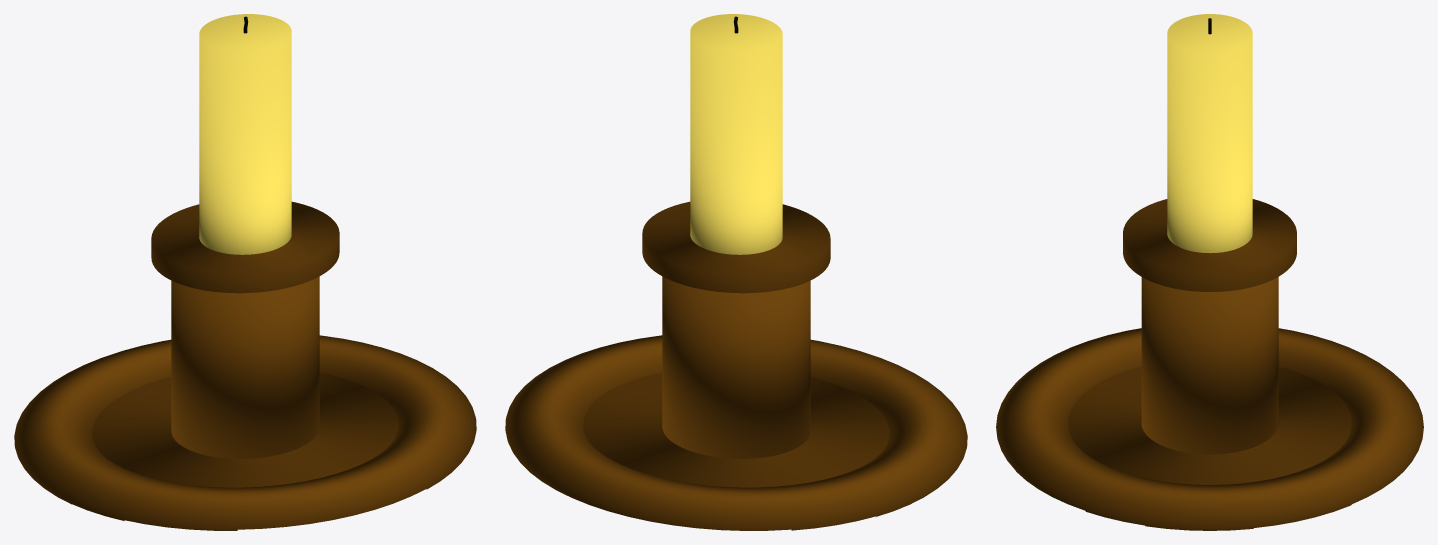
The model's file is Candle FBX.fbx.
The picture shows the model from 3 angles, left to right: view 1: azimuth 30°, elevation 25°; view 2: azimuth 150°, elevation 25°; view 3: azimuth 270°, elevation 25°; orthographic projection.
Visible parts, largest first — view 1: Torus, Cylinder_002, Cylinder, Cylinder_001, Cylinder_003; view 2: Torus, Cylinder_002, Cylinder, Cylinder_001, Cylinder_003; view 3: Torus, Cylinder_002, Cylinder, Cylinder_001, Cylinder_003.
Part boxes in pixels (x1,y1,x2,y2): Torus: [14, 335, 476, 530]; Cylinder_002: [171, 276, 319, 458]; Cylinder: [199, 14, 291, 254]; Cylinder_001: [92, 372, 398, 487]; Cylinder_003: [151, 201, 339, 293]; Torus: [505, 335, 967, 530]; Cylinder_002: [662, 276, 810, 458]; Cylinder: [690, 14, 782, 254]; Cylinder_001: [583, 372, 889, 487]; Cylinder_003: [642, 201, 830, 293]; Torus: [996, 328, 1423, 530]; Cylinder_002: [1141, 277, 1278, 454]; Cylinder: [1167, 14, 1252, 253]; Cylinder_001: [1068, 366, 1351, 484]; Cylinder_003: [1123, 199, 1296, 291].
Size of the model in its own units: 22.22 by 22.04 by 20.5.
